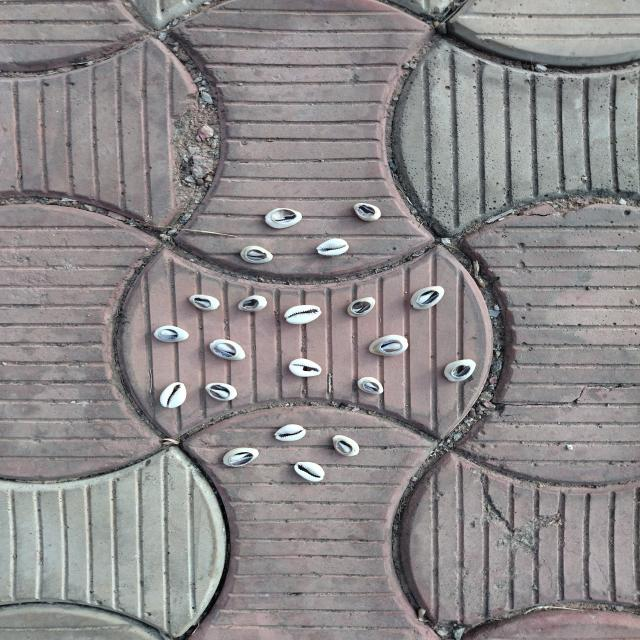facedown: (366, 332, 412, 358), (206, 338, 249, 362), (408, 285, 447, 311), (262, 208, 306, 230), (219, 446, 261, 468), (442, 359, 478, 383), (238, 244, 275, 265), (331, 434, 362, 459), (154, 324, 190, 345), (203, 381, 239, 402), (348, 202, 384, 222), (345, 296, 377, 318), (187, 293, 221, 312), (356, 376, 386, 397), (236, 294, 270, 312)
faceup: (281, 303, 331, 326), (287, 357, 324, 379), (158, 382, 188, 409), (292, 460, 327, 482), (314, 238, 352, 257), (272, 423, 308, 442)
